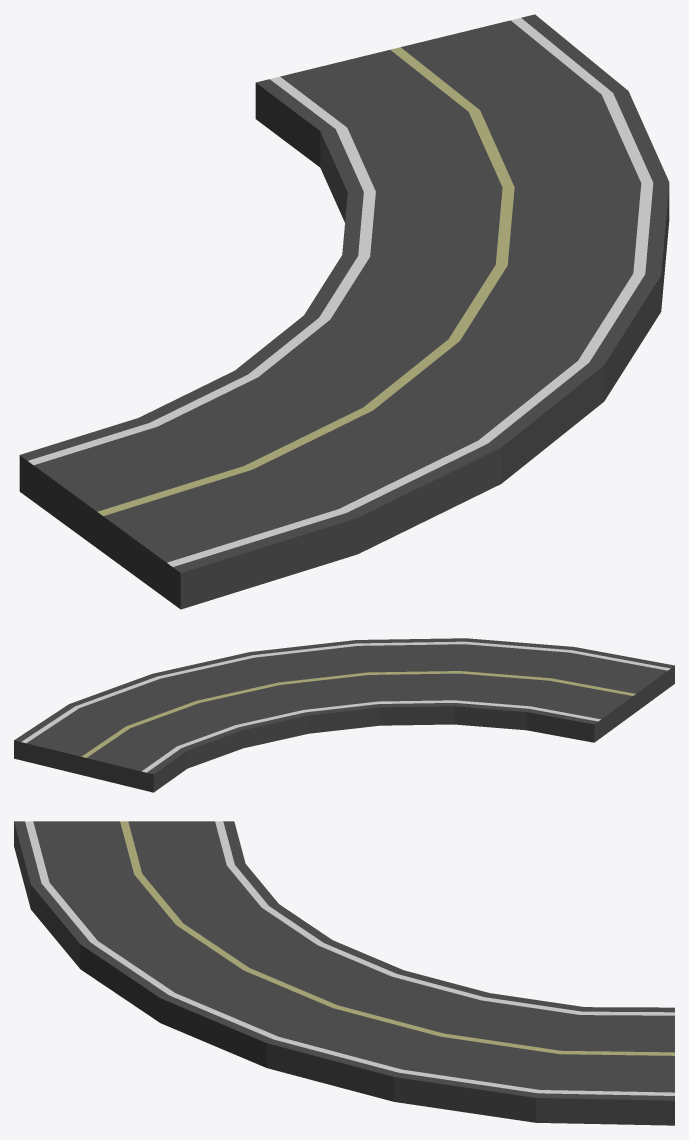
3 renders of one model, top to bottom at view 1: azimuth 30°, elevation 25°; view 2: azimuth 150°, elevation 25°; view 3: azimuth 270°, elevation 25°, orthographic. The views are drawn at different scales.
Visible parts, largest first — view 1: Road 90 Bend C; view 2: Road 90 Bend C; view 3: Road 90 Bend C.
Boxes of the visible parts, left/top/right/bottom form: Road 90 Bend C: left=19, top=14, right=669, bottom=609; Road 90 Bend C: left=14, top=638, right=674, bottom=792; Road 90 Bend C: left=14, top=821, right=674, bottom=1125.
Size of what is drawn, in the model's own units: 24 by 1 by 24.
1 material, 1 textured.
